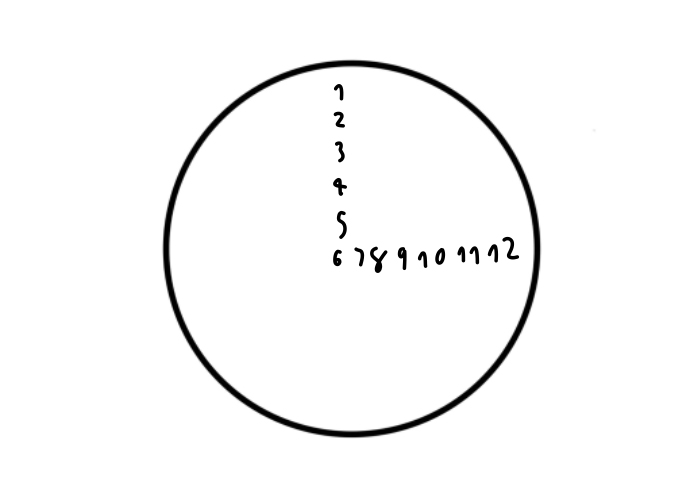eight: (367, 244, 388, 276)
eleven: (455, 245, 481, 264)
five: (336, 205, 349, 242)
four: (333, 175, 349, 199)
nine: (396, 246, 410, 272)
one: (333, 79, 347, 105)
seven: (350, 245, 367, 269)
six: (331, 246, 342, 266)
ten: (418, 245, 447, 272)
three: (334, 139, 348, 163)
twelve: (488, 237, 519, 264)
two: (333, 107, 348, 133)
